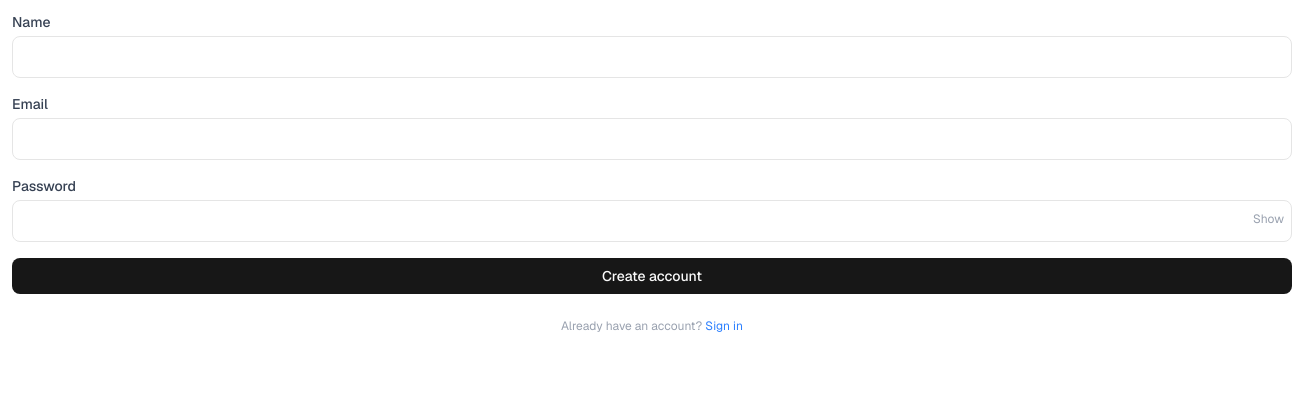
Test: RegisterForm › shows error from register action
The image size is (1304, 417).
Step 1. Type "John" into the field below "Name" → (652, 57), box x1=12 y1=36 x2=1292 y2=78
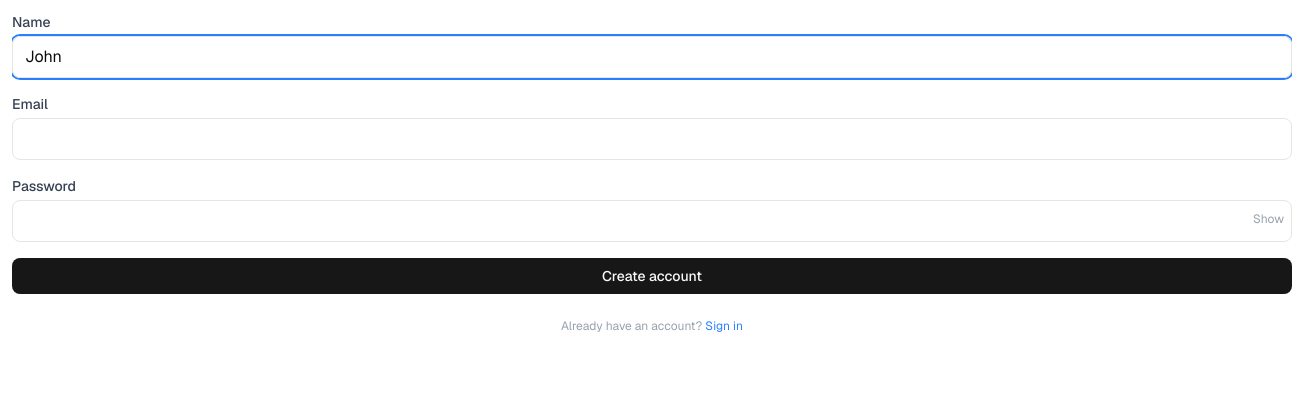
Step 2. Type "john@test.com" into the field below "Email" → (652, 139), box x1=12 y1=118 x2=1292 y2=160
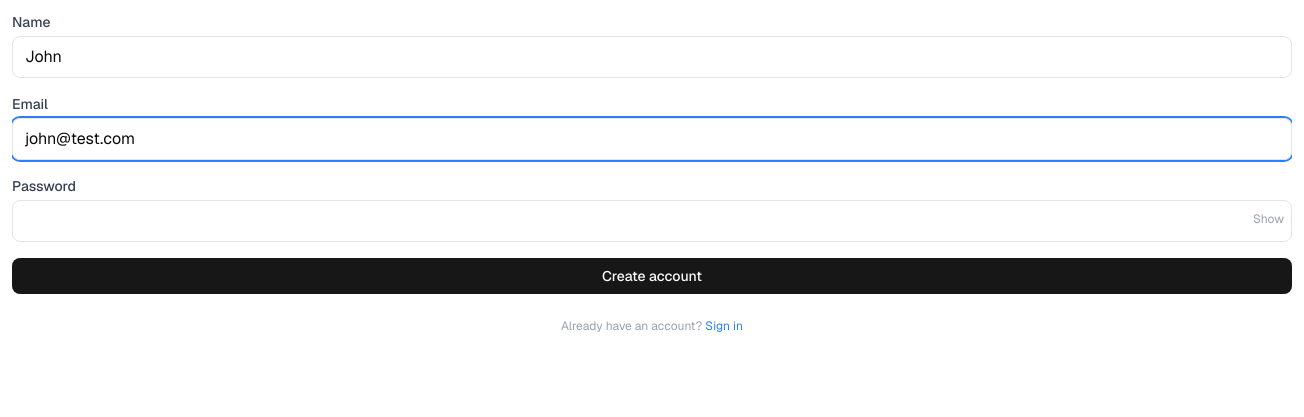
Step 3. Type "password123" into the password field → (652, 221), box x1=12 y1=200 x2=1292 y2=242
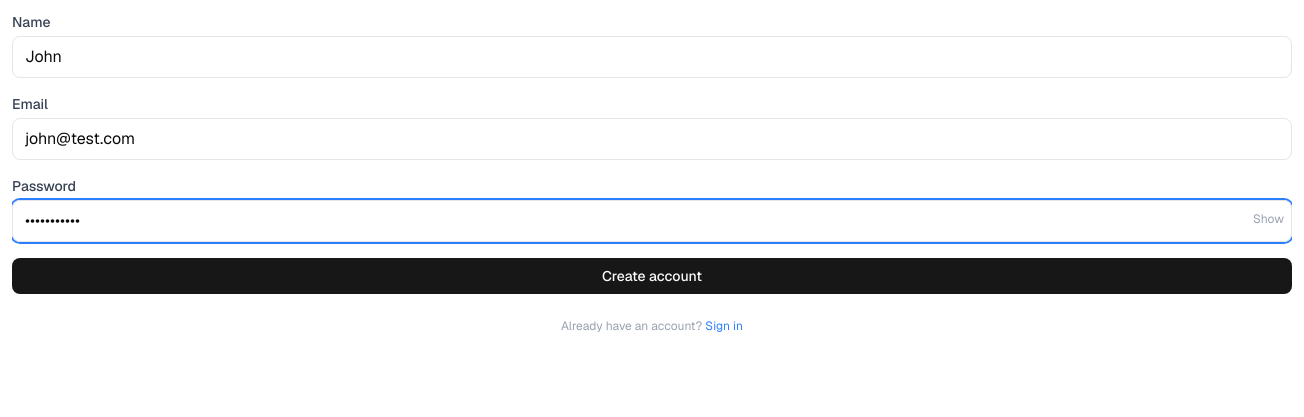
Step 4. Click the button "Create account" → (652, 276), box x1=12 y1=258 x2=1292 y2=294
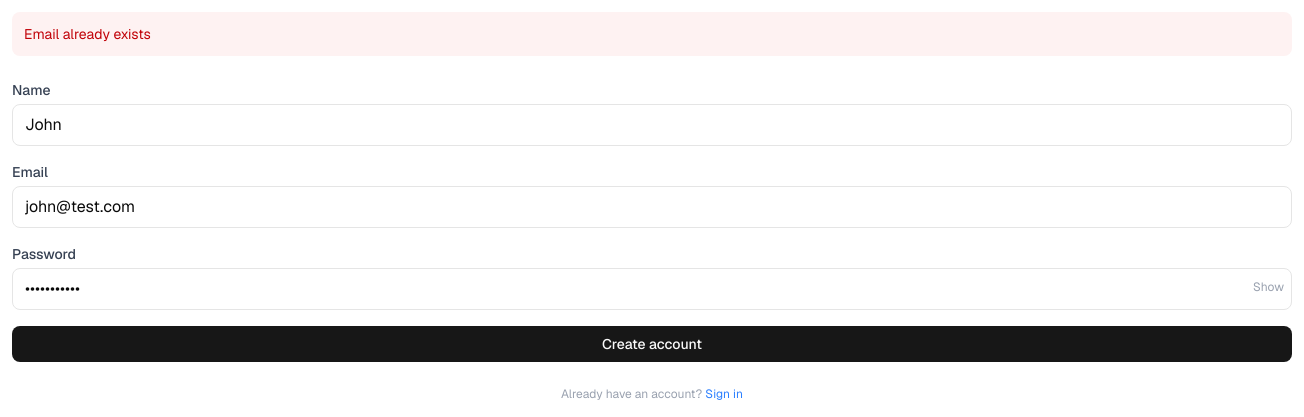
Result: the text "Email already exists" is shown at x1=12 y1=12 x2=1292 y2=56
